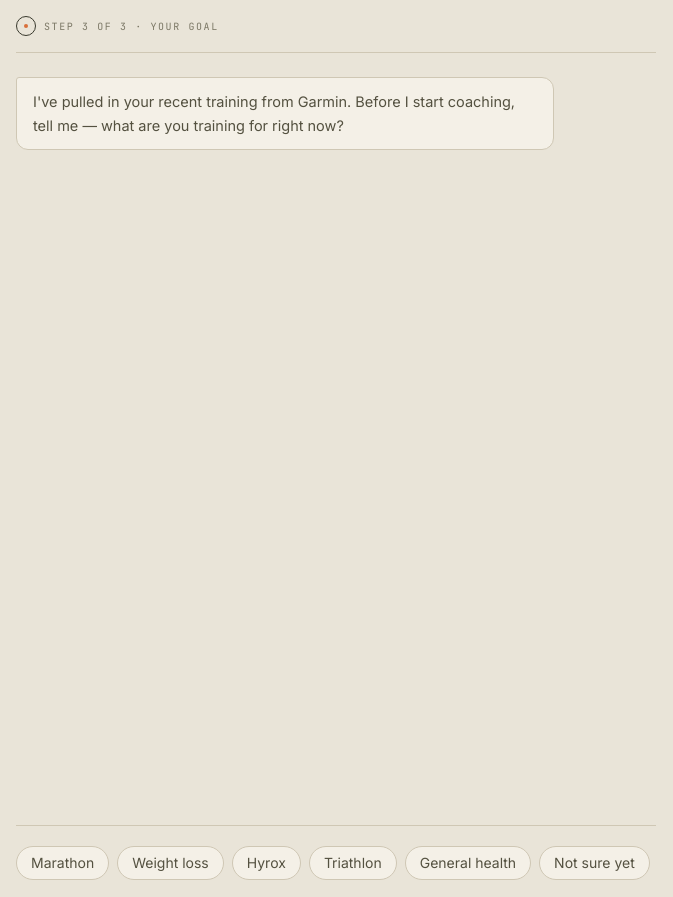
Test case: CoachOnboard (A15) › goes straight to done for goals without metadata (triathlon)
Click the button "Triathlon" at point(353, 863), box [309,846,397,880]
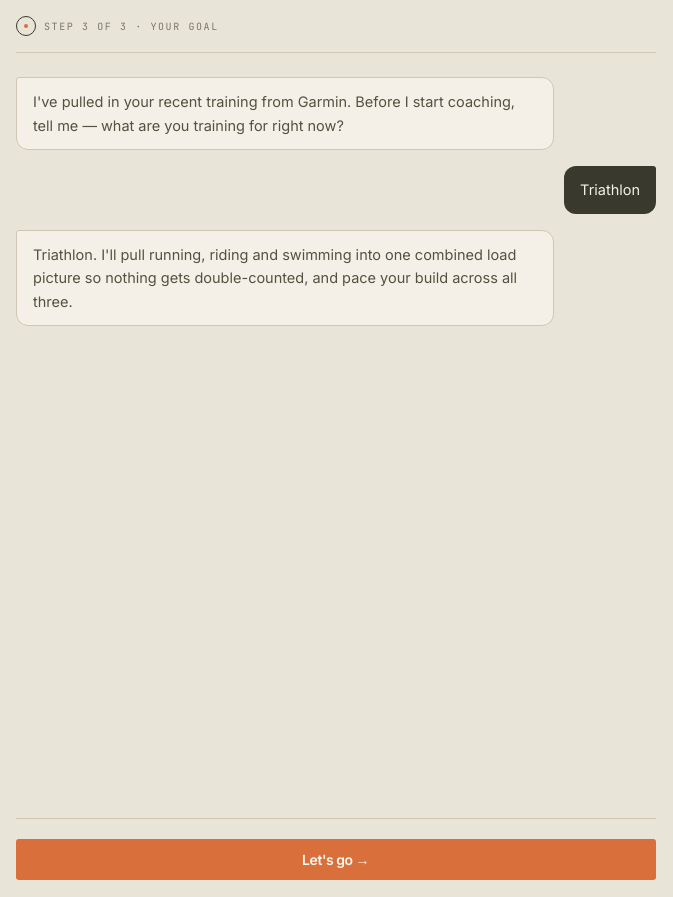
Now the button "Let's go →" is shown, box [16,838,656,880]
